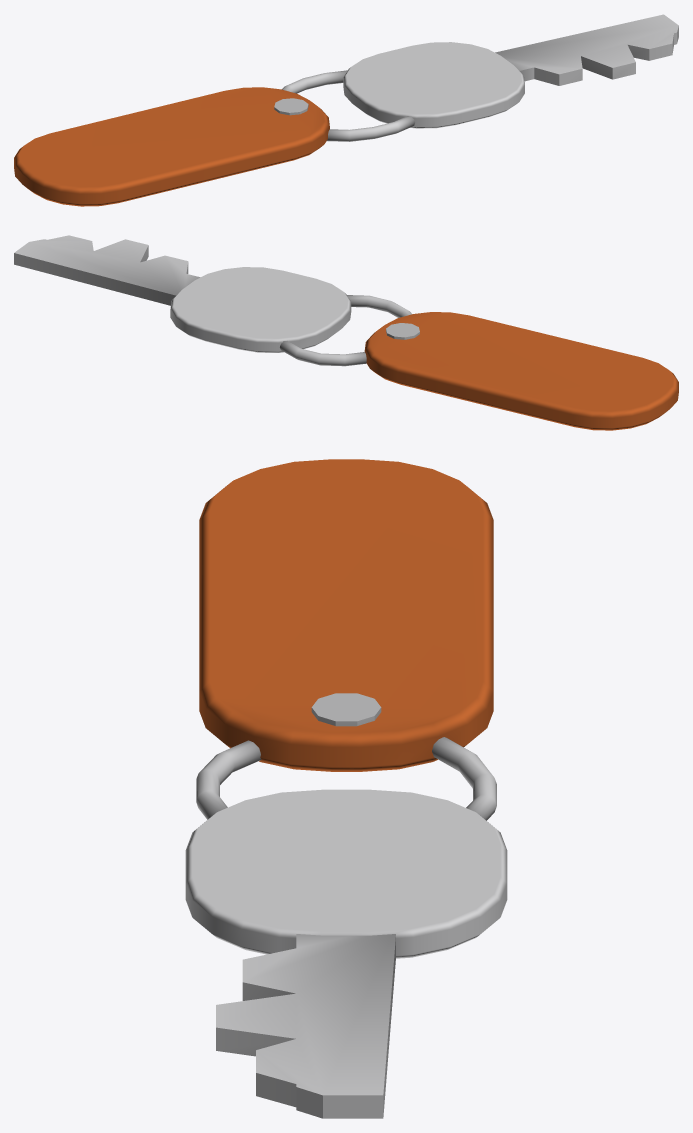
The model's file is ix_key_locker.gltf.
3 renders of one model, top to bottom at view 1: azimuth 30°, elevation 25°; view 2: azimuth 150°, elevation 25°; view 3: azimuth 270°, elevation 25°, orthographic. The views are drawn at different scales.
Parts seen in each view (by area): view 1: IX_KeyLocker_Fob, IX_KeyLocker; view 2: IX_KeyLocker_Fob, IX_KeyLocker; view 3: IX_KeyLocker_Fob, IX_KeyLocker.
Boxes of the visible parts, left/top/right/bottom form: IX_KeyLocker_Fob: left=14, top=87, right=329, bottom=206; IX_KeyLocker: left=274, top=14, right=678, bottom=141; IX_KeyLocker_Fob: left=364, top=312, right=678, bottom=430; IX_KeyLocker: left=14, top=235, right=419, bottom=366; IX_KeyLocker_Fob: left=199, top=459, right=493, bottom=771; IX_KeyLocker: left=185, top=693, right=507, bottom=1118.
Bounding box in the file's own units: 0.111 × 0.0036 × 0.024.
